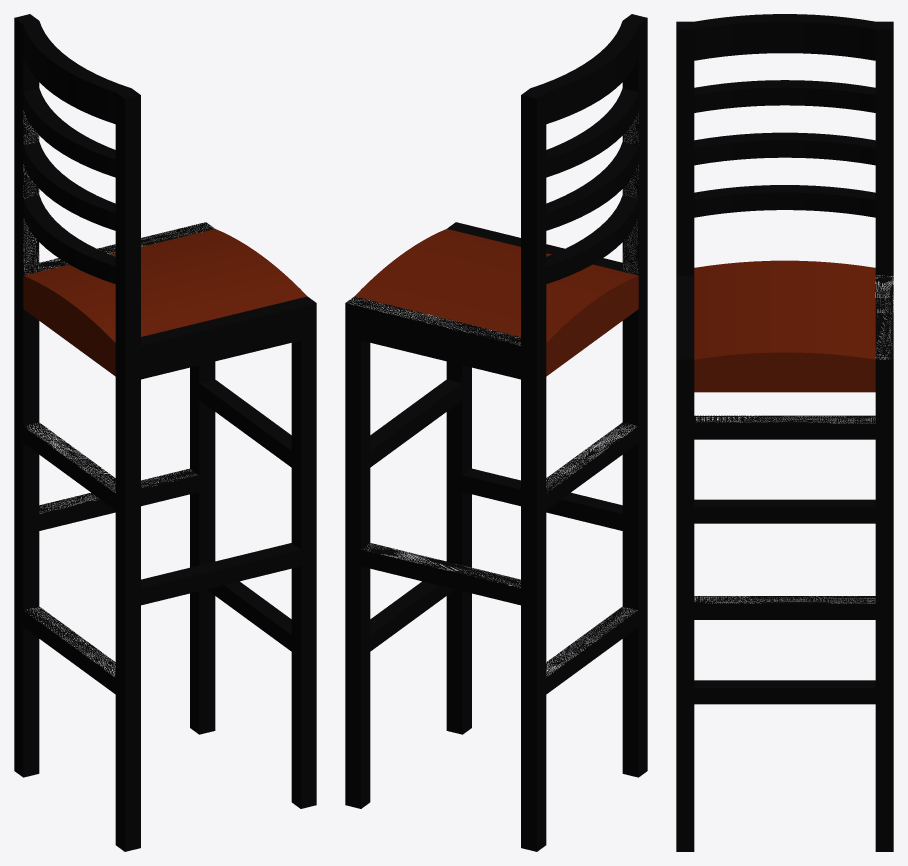
Rendered from ChairModel.dae.
The picture shows the model from 3 angles, left to right: view 1: azimuth 30°, elevation 25°; view 2: azimuth 150°, elevation 25°; view 3: azimuth 270°, elevation 25°; orthographic projection.
Parts seen in each view (by area): view 1: SketchUp (×2); view 2: SketchUp (×2); view 3: SketchUp (×2).
Part boxes in pixels (x1=…): SketchUp (×2): x1=14, y1=14, x2=316, y2=851; SketchUp (×2): x1=345, y1=14, x2=647, y2=851; SketchUp (×2): x1=676, y1=14, x2=893, y2=851.
Bounding box in the file's own units: 13 × 12 × 45.
